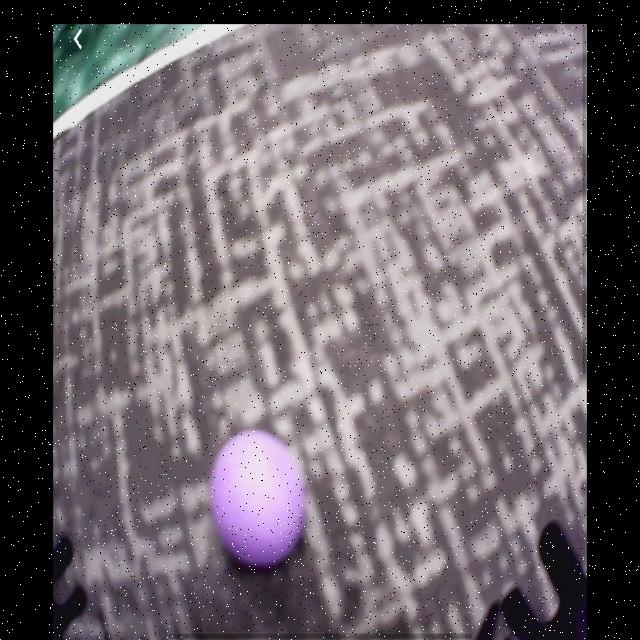ball: (212, 429, 307, 572)
